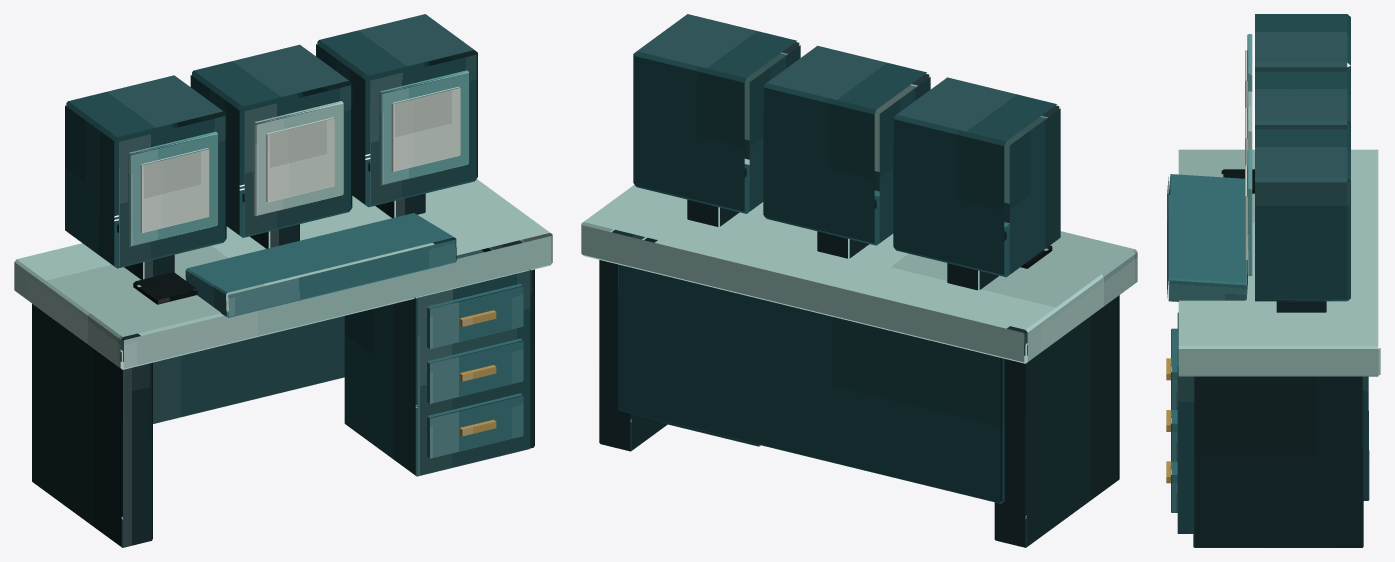
The model's file is office_crt_security_console_teal.glb.
The picture shows the model from 3 angles, left to right: view 1: azimuth 30°, elevation 25°; view 2: azimuth 150°, elevation 25°; view 3: azimuth 270°, elevation 25°; orthographic projection. The views are drawn at different scales.
Visible parts, largest first — view 1: DeskTop, DeskLeg, DrawerPedestal, MonitorShell_0, ConsoleKeyboard, MonitorShell_1, MonitorShell_2, ModestyPanel, MonitorGlow_2, MonitorGlow_0, MonitorGlow_1, MonitorScreen_2 (+10 smaller); view 2: ModestyPanel, DeskTop, MonitorShell_0, MonitorShell_1, MonitorShell_2, DeskLeg, DeskLeg.001, MonitorStand_2, MonitorStand_1, MonitorStand_0; view 3: DeskLeg.001, DeskTop, MonitorShell_2, ConsoleKeyboard, MonitorShell_1, MonitorShell_0, DrawerPedestal, ModestyPanel, MonitorScreen_2, MonitorStand_2, Drawer_2, Drawer_1 (+5 smaller).
Part boxes in pixels (x1,y1,x2,y2): DeskTop: [14, 179, 552, 369]; DeskLeg: [32, 303, 152, 547]; DrawerPedestal: [344, 247, 530, 476]; MonitorShell_0: [65, 75, 226, 268]; ConsoleKeyboard: [185, 213, 456, 317]; MonitorShell_1: [190, 44, 352, 237]; MonitorShell_2: [316, 14, 477, 207]; ModestyPanel: [153, 316, 344, 423]; MonitorGlow_2: [391, 86, 460, 171]; MonitorGlow_0: [140, 148, 209, 232]; MonitorGlow_1: [266, 117, 334, 202]; MonitorScreen_2: [379, 70, 469, 185]; ModestyPanel: [618, 264, 1004, 503]; DeskTop: [581, 158, 1137, 363]; MonitorShell_0: [893, 77, 1060, 277]; MonitorShell_1: [763, 45, 930, 245]; MonitorShell_2: [633, 14, 800, 213]; DeskLeg: [994, 295, 1119, 547]; DeskLeg.001: [599, 229, 667, 451]; MonitorStand_2: [687, 167, 746, 226]; MonitorStand_1: [817, 199, 876, 258]; MonitorStand_0: [947, 230, 1006, 290]; DeskLeg.001: [1193, 376, 1363, 547]; DeskTop: [1178, 149, 1380, 376]; MonitorShell_2: [1255, 129, 1350, 301]; ConsoleKeyboard: [1167, 174, 1247, 301]; MonitorShell_1: [1255, 71, 1350, 182]; MonitorShell_0: [1255, 14, 1350, 124]; DrawerPedestal: [1177, 312, 1194, 533]; ModestyPanel: [1362, 376, 1369, 500]; MonitorScreen_2: [1247, 149, 1252, 276]; MonitorStand_2: [1276, 301, 1326, 312]; Drawer_2: [1171, 328, 1177, 409]; Drawer_1: [1171, 409, 1177, 461].
Bounding box in the file's own units: 1.65 × 1.39 × 0.755.
Materials: 2 (2 with a texture image).
